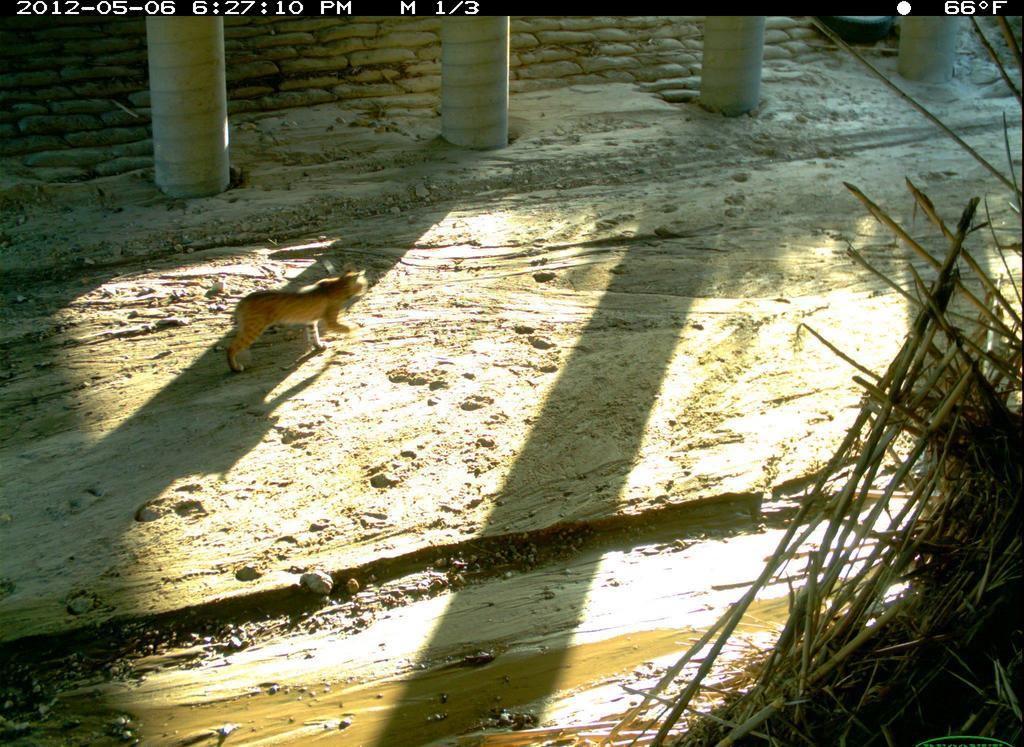bobcat: (218, 271, 378, 374)
